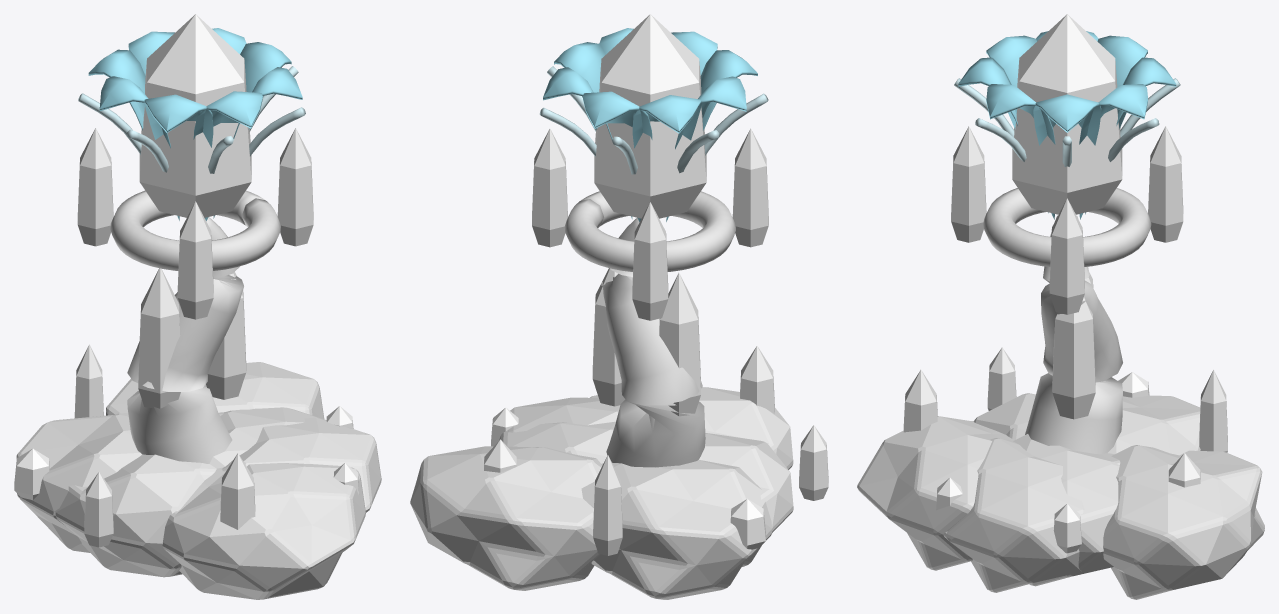
Rendered from frost-2.fbx.
The picture shows the model from 3 angles, left to right: view 1: azimuth 30°, elevation 25°; view 2: azimuth 150°, elevation 25°; view 3: azimuth 270°, elevation 25°; orthographic projection.
Visible parts, largest first — view 1: Base_Stone, Turret_Glow, IceHeart, Petals_Glow, FrostRoot, Base_Glow, BudCollar; view 2: Base_Stone, Turret_Glow, IceHeart, Petals_Glow, FrostRoot, Base_Glow, BudCollar; view 3: Base_Stone, Turret_Glow, IceHeart, Petals_Glow, FrostRoot, Base_Glow, BudCollar.
Boxes of the visible parts, box(x1,y1,x2,y2) form: Base_Stone: box(16, 362, 381, 599); Turret_Glow: box(77, 128, 313, 408); IceHeart: box(139, 14, 251, 217); Petals_Glow: box(78, 28, 305, 220); FrostRoot: box(127, 217, 243, 463); Base_Glow: box(14, 344, 359, 547); BudCollar: box(110, 190, 280, 270); Base_Stone: box(410, 387, 793, 599); Turret_Glow: box(532, 128, 768, 416); IceHeart: box(594, 14, 706, 218); Petals_Glow: box(539, 28, 768, 221); FrostRoot: box(601, 218, 705, 467); Base_Glow: box(484, 346, 828, 555); BudCollar: box(564, 191, 735, 271); Base_Stone: box(857, 393, 1264, 599); Turret_Glow: box(951, 126, 1183, 419); IceHeart: box(1012, 14, 1122, 214); Petals_Glow: box(954, 31, 1180, 219); FrostRoot: box(1025, 215, 1122, 454); Base_Glow: box(903, 347, 1227, 553); BudCollar: box(983, 188, 1151, 266).
Bounding box in the file's own units: 80.53 × 129 × 89.72.
